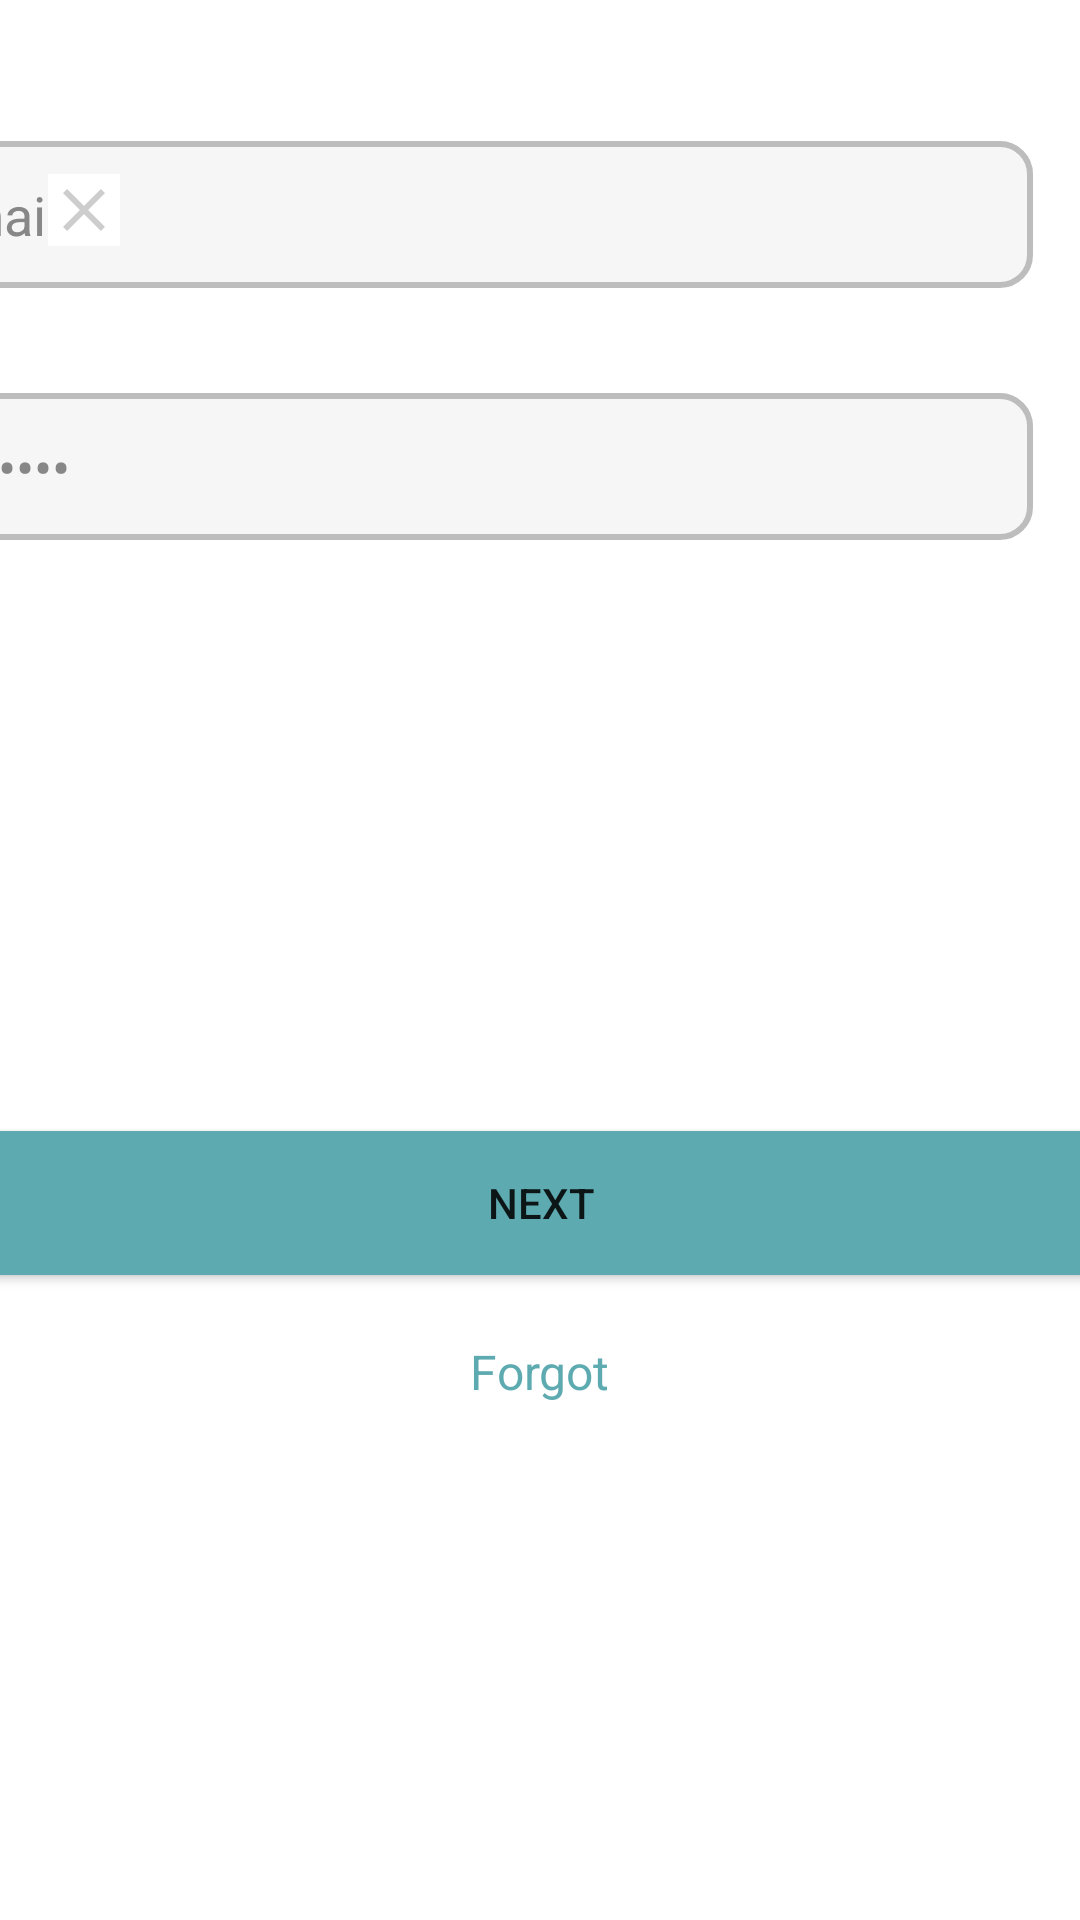

Icons on this 1080px x 1920px Android screen, each with its box as (x1, y1, x2, y2):
close: (48, 174, 120, 246)
